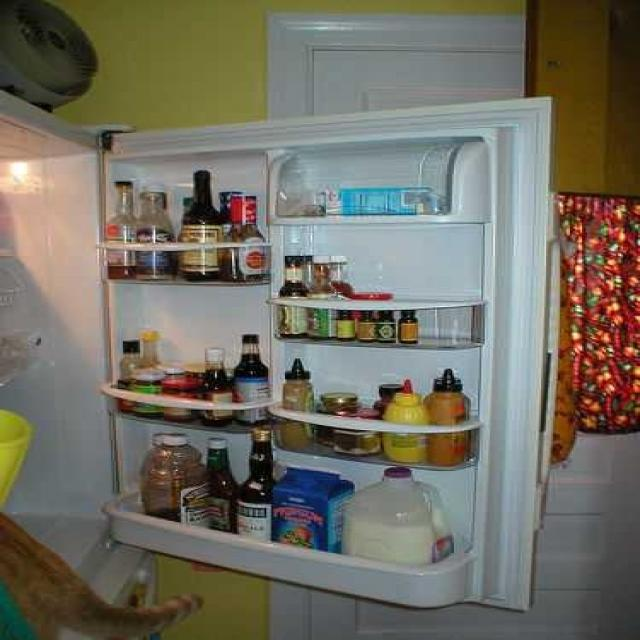refrigerator: (0, 117, 523, 607)
